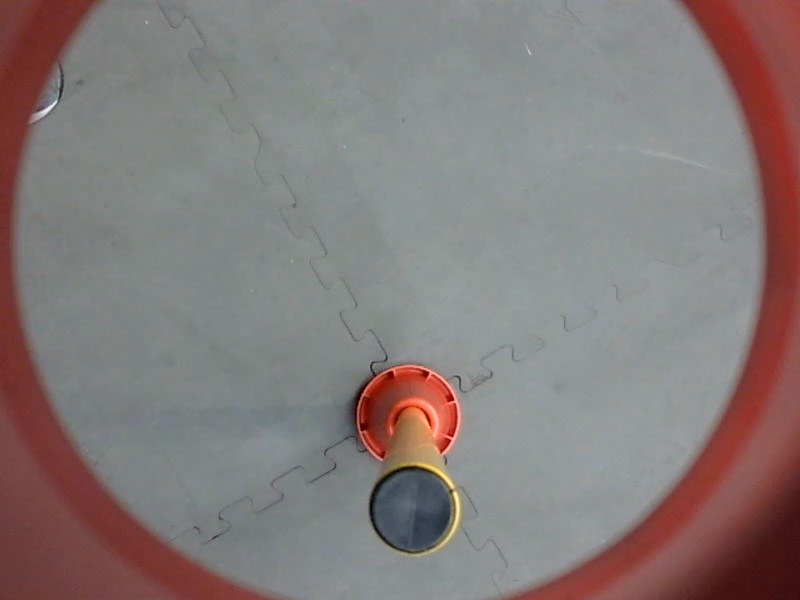tip: (362, 460, 468, 564)
